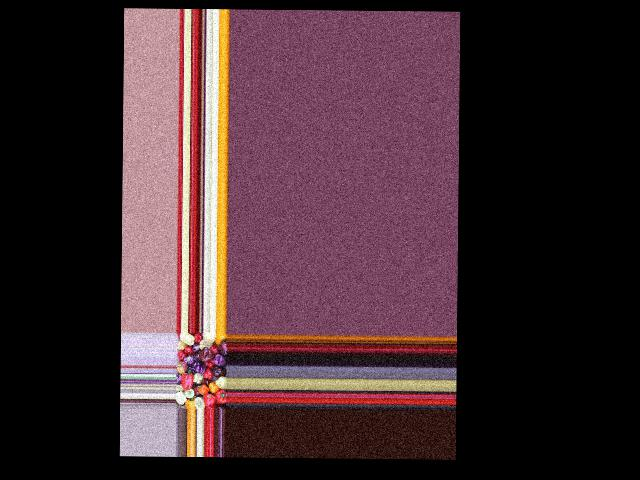bell_pepper: (195, 395, 204, 409)
